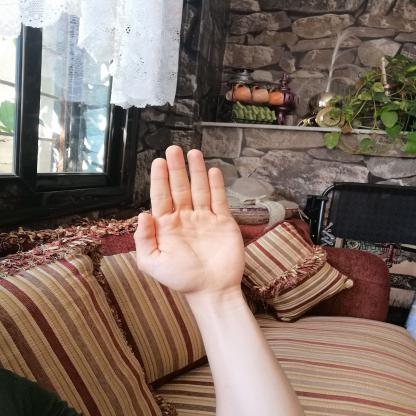SEEN: (122, 138, 256, 300)
